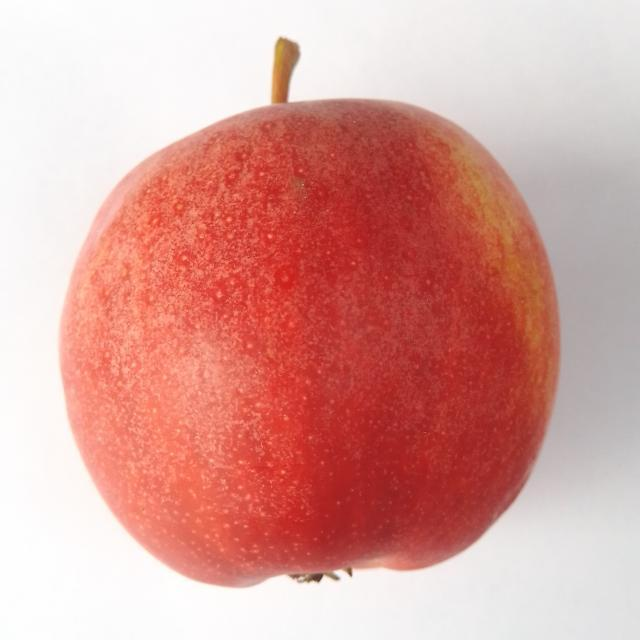Fresh Apple: (50, 89, 567, 598)
